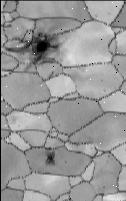good_void: (4, 31, 65, 66), (44, 149, 55, 163), (56, 121, 61, 128), (101, 185, 106, 189), (62, 159, 66, 163), (99, 79, 102, 83)
